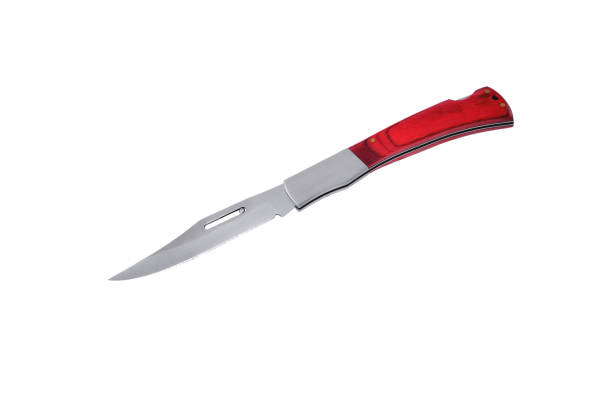knife: (107, 84, 516, 284)
